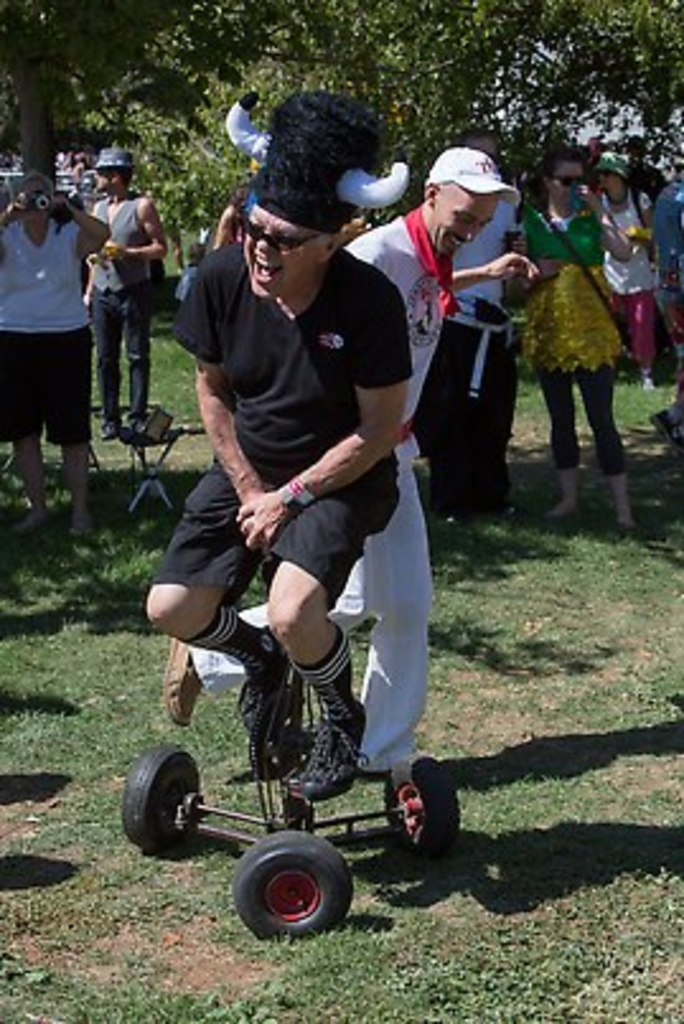Person: (0, 144, 684, 528)
